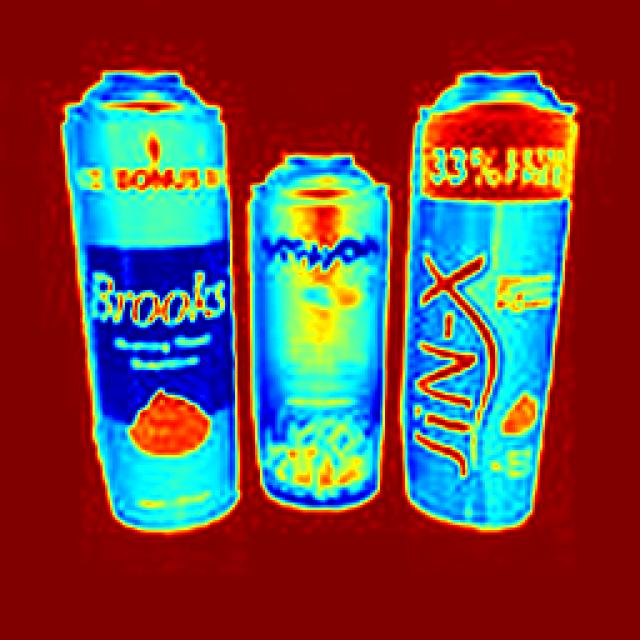Aerosol Cans: (44, 57, 247, 551), (401, 55, 583, 566), (245, 120, 406, 512)
